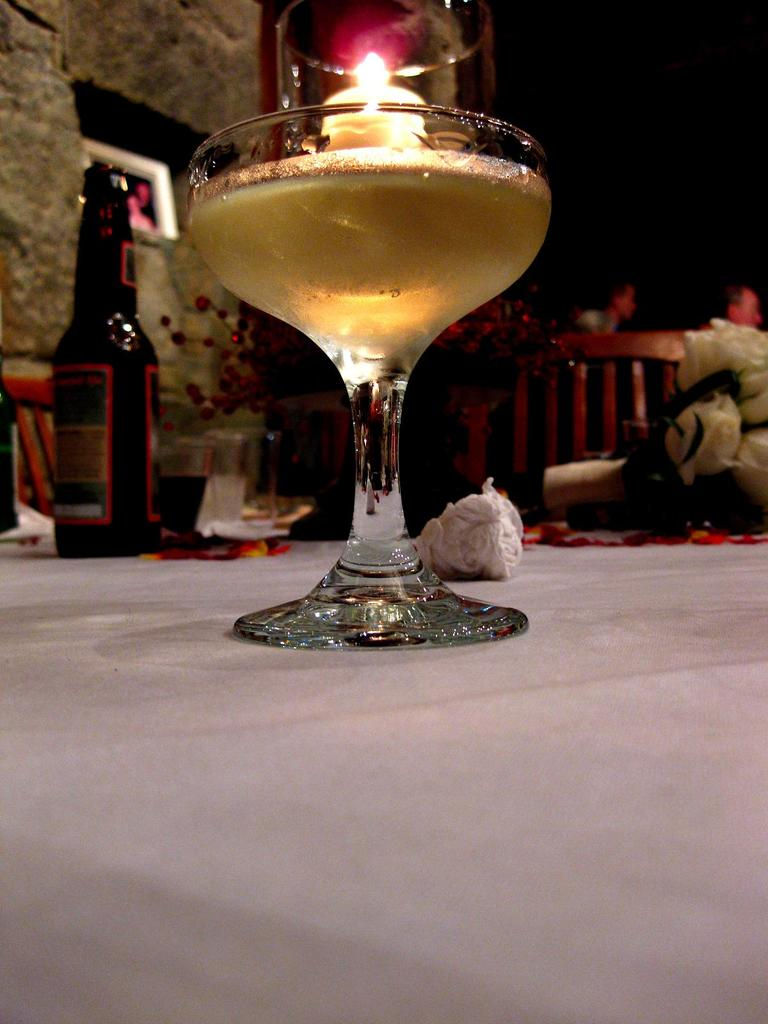Beer: (192, 144, 564, 398), (46, 184, 160, 561)
